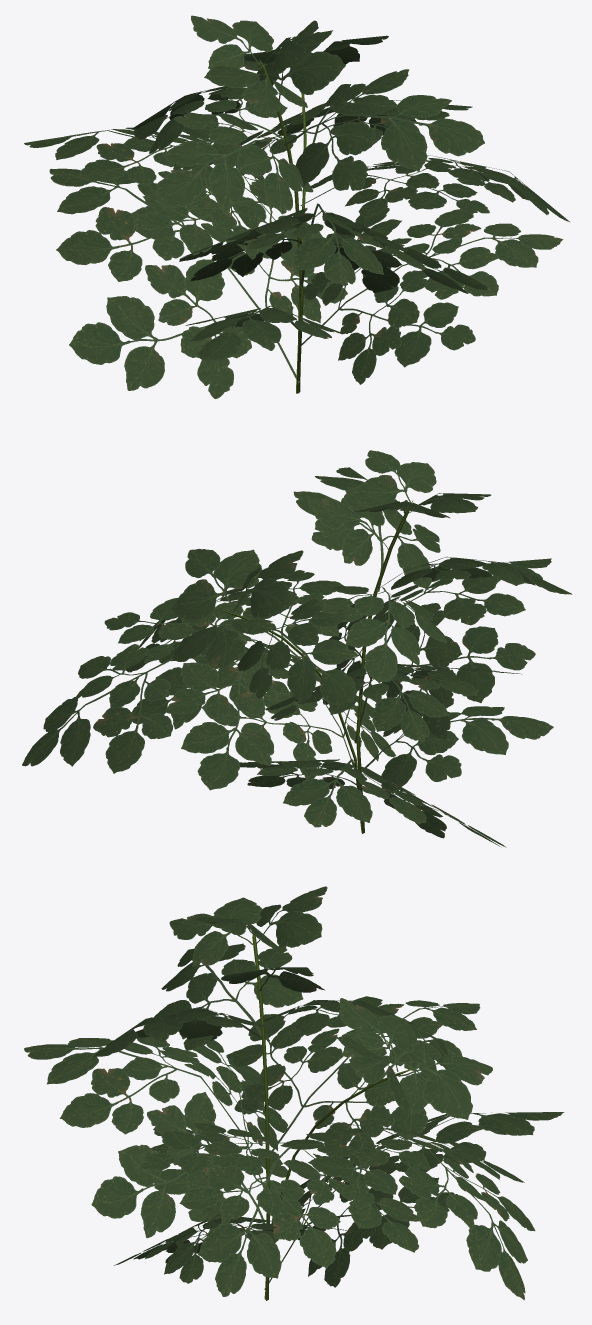
The model's file is MSH_fwOF_ForestPlant_B_01.fbx.
3 renders of one model, top to bottom at view 1: azimuth 30°, elevation 25°; view 2: azimuth 150°, elevation 25°; view 3: azimuth 270°, elevation 25°, orthographic. The views are drawn at different scales.
Parts seen in each view (by area): view 1: MSH_fwOF_ForestPlant_B_01; view 2: MSH_fwOF_ForestPlant_B_01; view 3: MSH_fwOF_ForestPlant_B_01.
Part boxes in pixels (box(x1,y1,x2,y2)): MSH_fwOF_ForestPlant_B_01: box(24, 15, 569, 398); MSH_fwOF_ForestPlant_B_01: box(22, 450, 572, 847); MSH_fwOF_ForestPlant_B_01: box(24, 886, 564, 1300).
Bounding box in the file's own units: 0.8943 × 0.716 × 0.9654.
